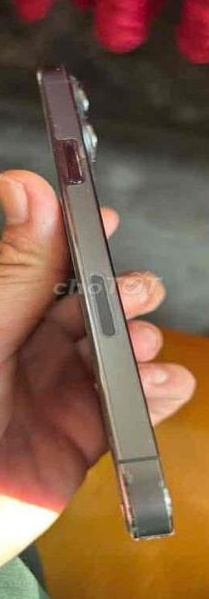scratch: (91, 441, 185, 548)
